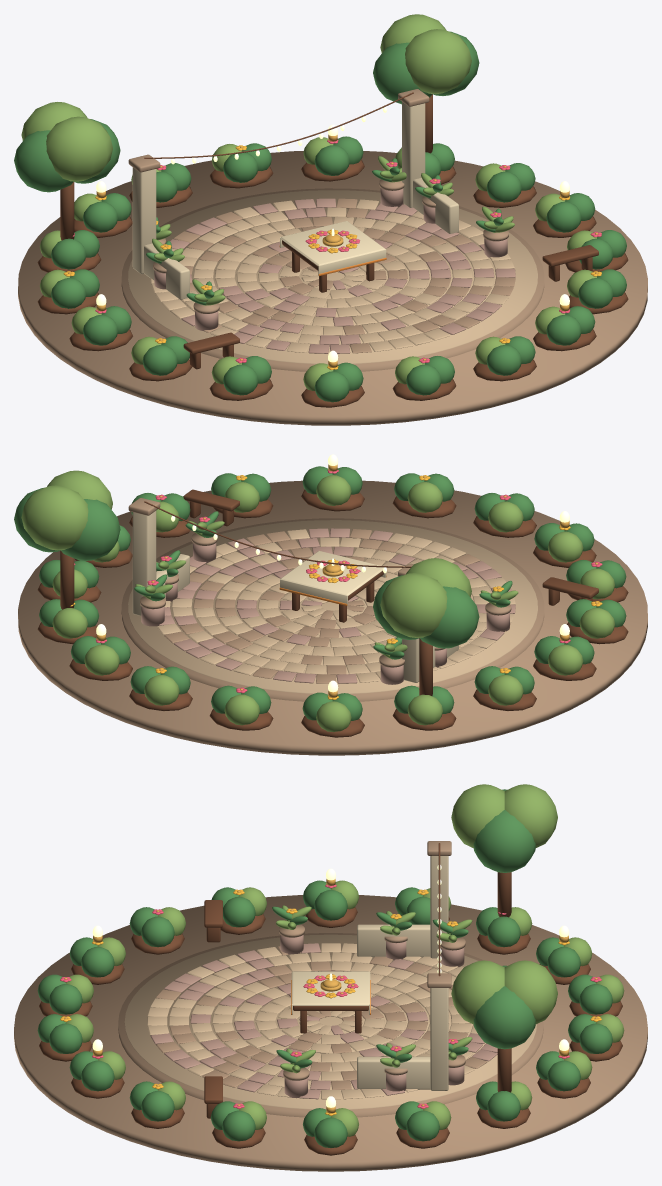
Rendered from Courtyard.fbx.
The picture shows the model from 3 angles, top to bottom: view 1: azimuth 30°, elevation 25°; view 2: azimuth 150°, elevation 25°; view 3: azimuth 270°, elevation 25°; orthographic projection.
Parts seen in each view (by area): view 1: Surface_KU_Sandstone, Surface_KU_StoneLight, Surface_KU_Leaf, Surface_KU_LeafLight, Surface_KU_Wood, Surface_KU_StoneRose, Surface_KU_Plaster, Surface_KU_Cloth, Surface_KU_Flame, Surface_KU_Flower, Surface_KU_FlowerGold, Surface_KU_Gold; view 2: Surface_KU_Sandstone, Surface_KU_StoneLight, Surface_KU_LeafLight, Surface_KU_Leaf, Surface_KU_Wood, Surface_KU_StoneRose, Surface_KU_Plaster, Surface_KU_Cloth, Surface_KU_Flame, Surface_KU_Flower, Surface_KU_FlowerGold, Surface_KU_Gold; view 3: Surface_KU_Sandstone, Surface_KU_Leaf, Surface_KU_StoneLight, Surface_KU_LeafLight, Surface_KU_Wood, Surface_KU_StoneRose, Surface_KU_Plaster, Surface_KU_Cloth, Surface_KU_Flame, Surface_KU_Flower, Surface_KU_FlowerGold, Surface_KU_Gold.
Part boxes in pixels (x1,y1,x2,y2): Surface_KU_Sandstone: (18,89,647,425); Surface_KU_StoneLight: (128,190,537,364); Surface_KU_Leaf: (14,31,626,402); Surface_KU_LeafLight: (21,14,596,390); Surface_KU_Wood: (37,92,628,407); Surface_KU_StoneRose: (154,188,515,353); Surface_KU_Plaster: (132,102,458,300); Surface_KU_Cloth: (280,221,386,275); Surface_KU_Flame: (96,107,569,362); Surface_KU_Flower: (72,140,601,363); Surface_KU_FlowerGold: (63,145,601,369); Surface_KU_Gold: (68,134,598,367); Surface_KU_Sandstone: (18,480,647,755); Surface_KU_StoneLight: (128,520,537,694); Surface_KU_LeafLight: (21,470,614,732); Surface_KU_Leaf: (14,466,626,720); Surface_KU_Wood: (37,489,628,737); Surface_KU_StoneRose: (141,528,515,684); Surface_KU_Plaster: (132,511,458,682); Surface_KU_Cloth: (280,551,386,605); Surface_KU_Flame: (96,454,569,692); Surface_KU_Flower: (74,470,602,693); Surface_KU_FlowerGold: (70,475,602,699); Surface_KU_Gold: (96,464,597,697); Surface_KU_Sandstone: (14,841,647,1171); Surface_KU_Leaf: (37,789,612,1147); Surface_KU_StoneLight: (124,934,536,1109); Surface_KU_LeafLight: (66,784,624,1136); Surface_KU_Wood: (39,843,622,1155); Surface_KU_StoneRose: (150,935,497,1099); Surface_KU_Plaster: (357,856,448,1090); Surface_KU_Cloth: (291,971,370,1014); Surface_KU_Flame: (92,865,569,1107); Surface_KU_Flower: (60,884,601,1108); Surface_KU_FlowerGold: (60,889,601,1115); Surface_KU_Gold: (64,879,597,1113).
Bounding box in the file's own units: 14.6 × 4.11 × 14.6.
